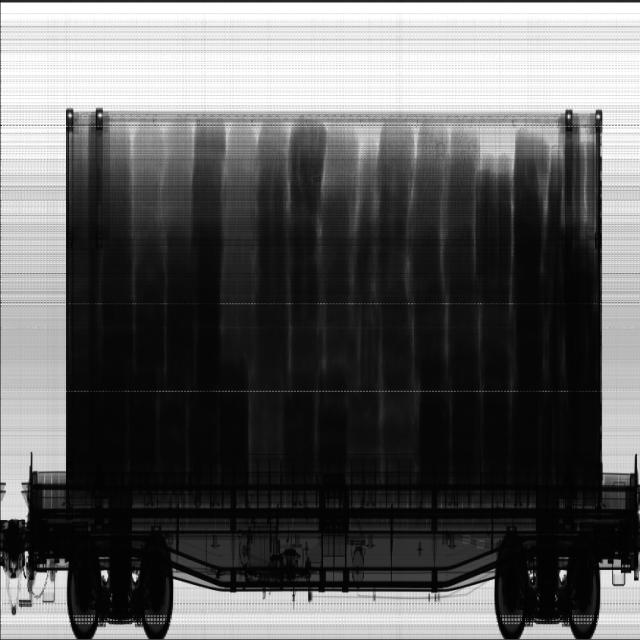textile: (69, 123, 594, 470)
